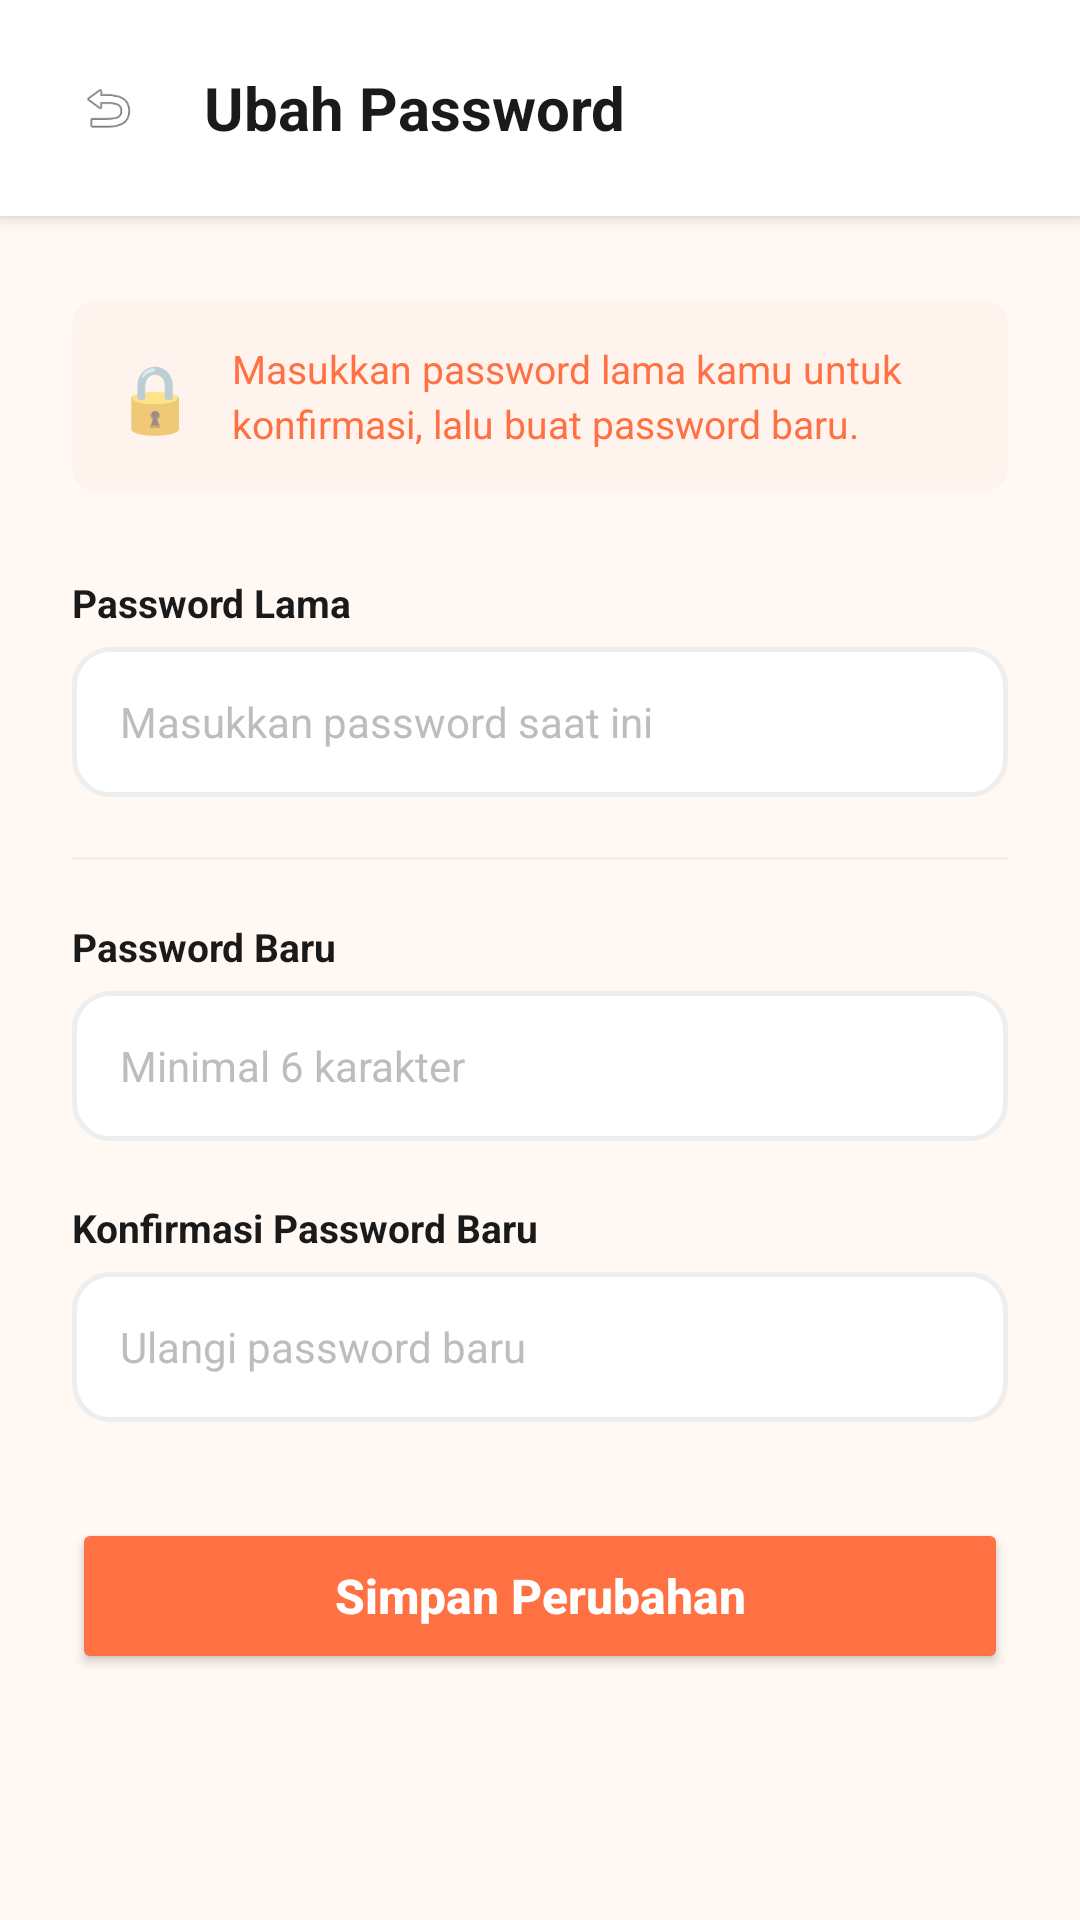

Icon bounding boxes for this 1080 x 1920 phone screenshot, format (left=x1, top=y1, right=x2, bottom=y2):
revert: (left=87, top=89, right=131, bottom=128)
